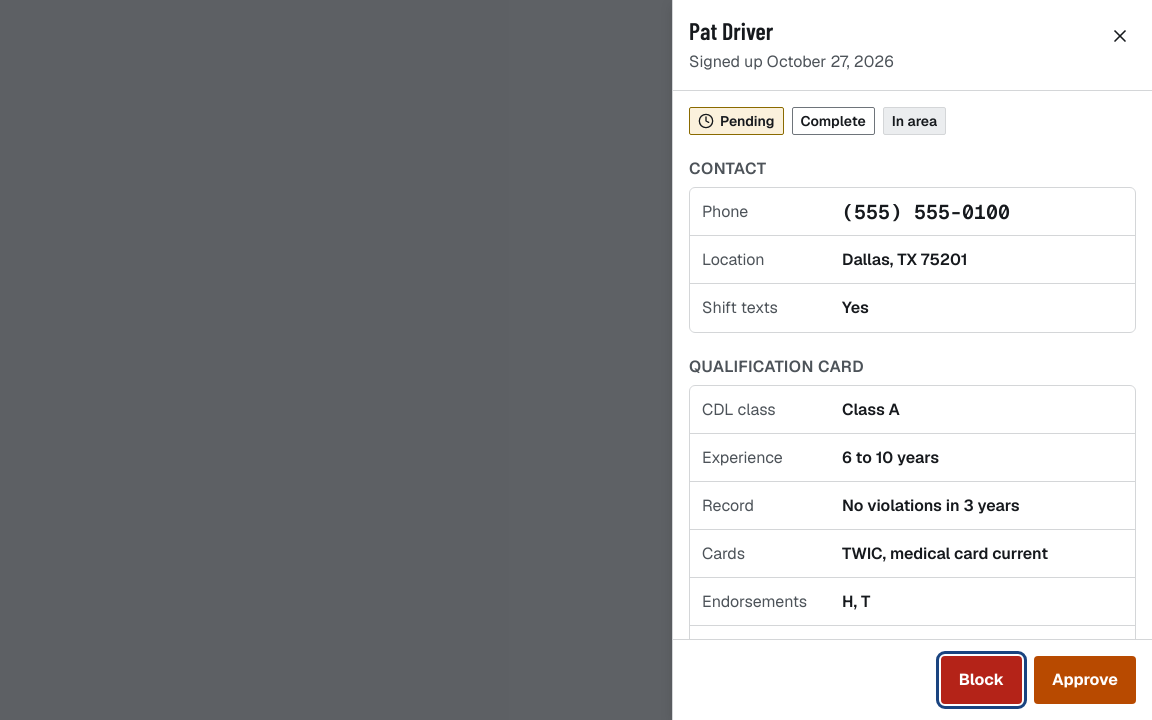
Scenario: DriverDetailSheet › approves after the dialog, with the toast and a refresh
Click the button "Approve": [1085, 680] box [1034, 656, 1136, 704]
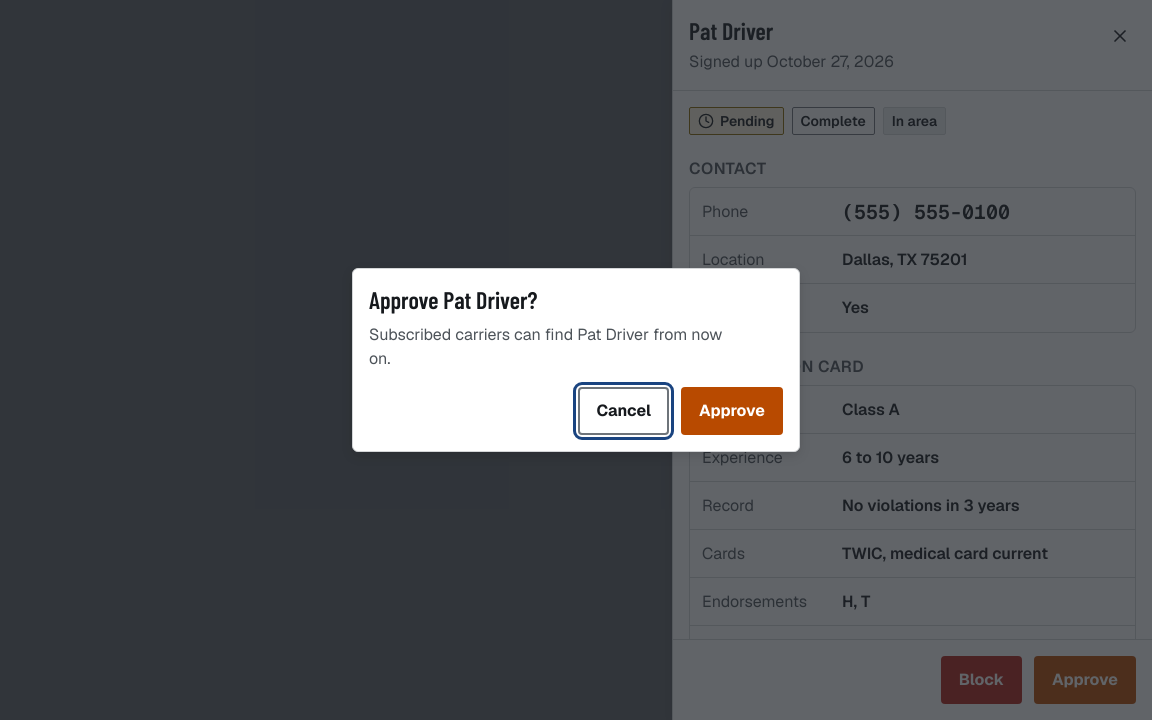
Expected: the text "Subscribed carriers can find Pat Driver from now on." is shown, [369, 323, 735, 371]
Click the button "Approve": [732, 411] box [681, 387, 783, 435]
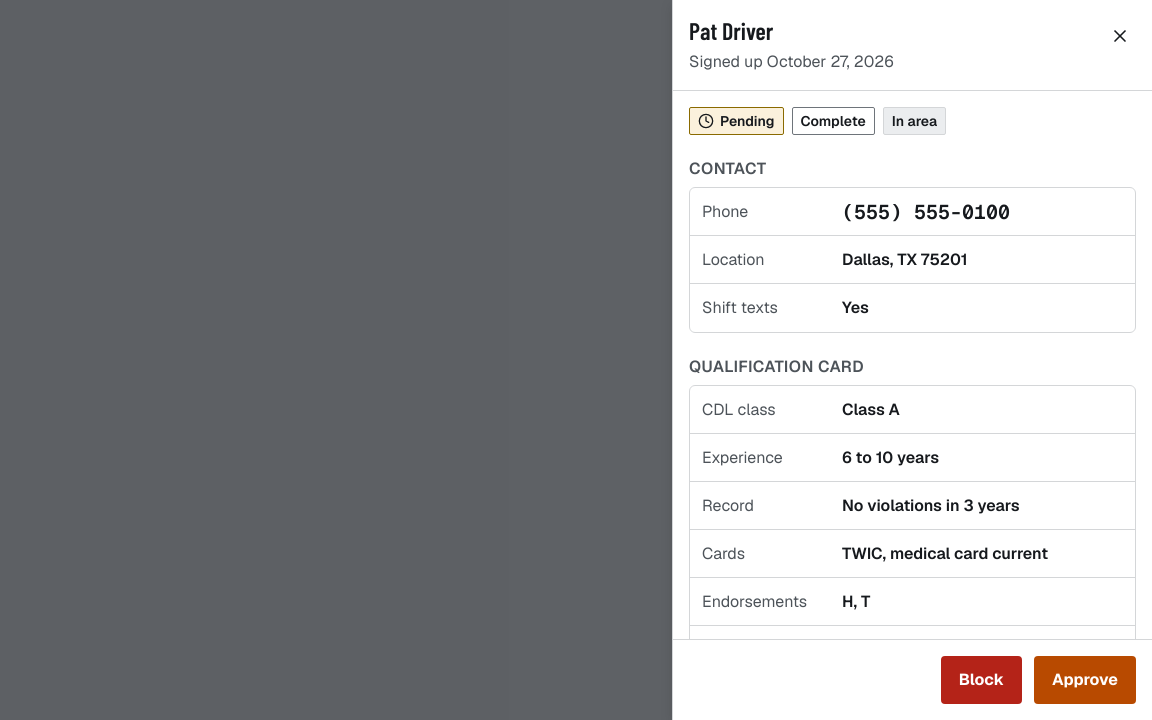
Expected: the heading "Approve Pat Driver?" is gone
